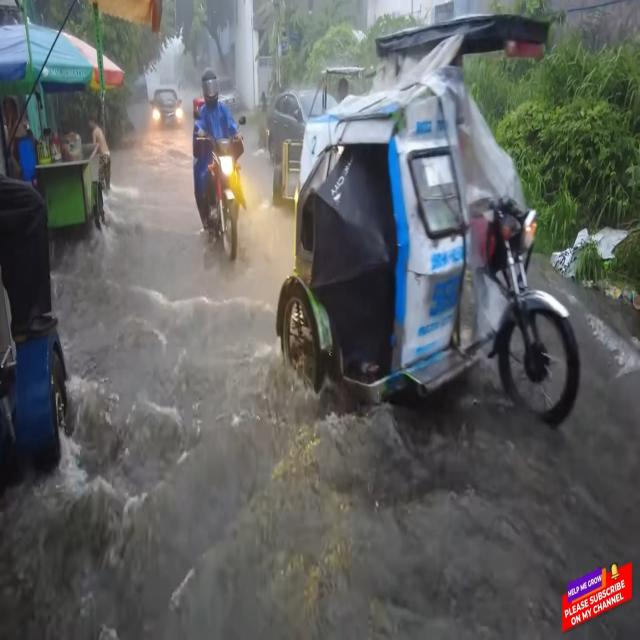full: (200, 68, 222, 114)
